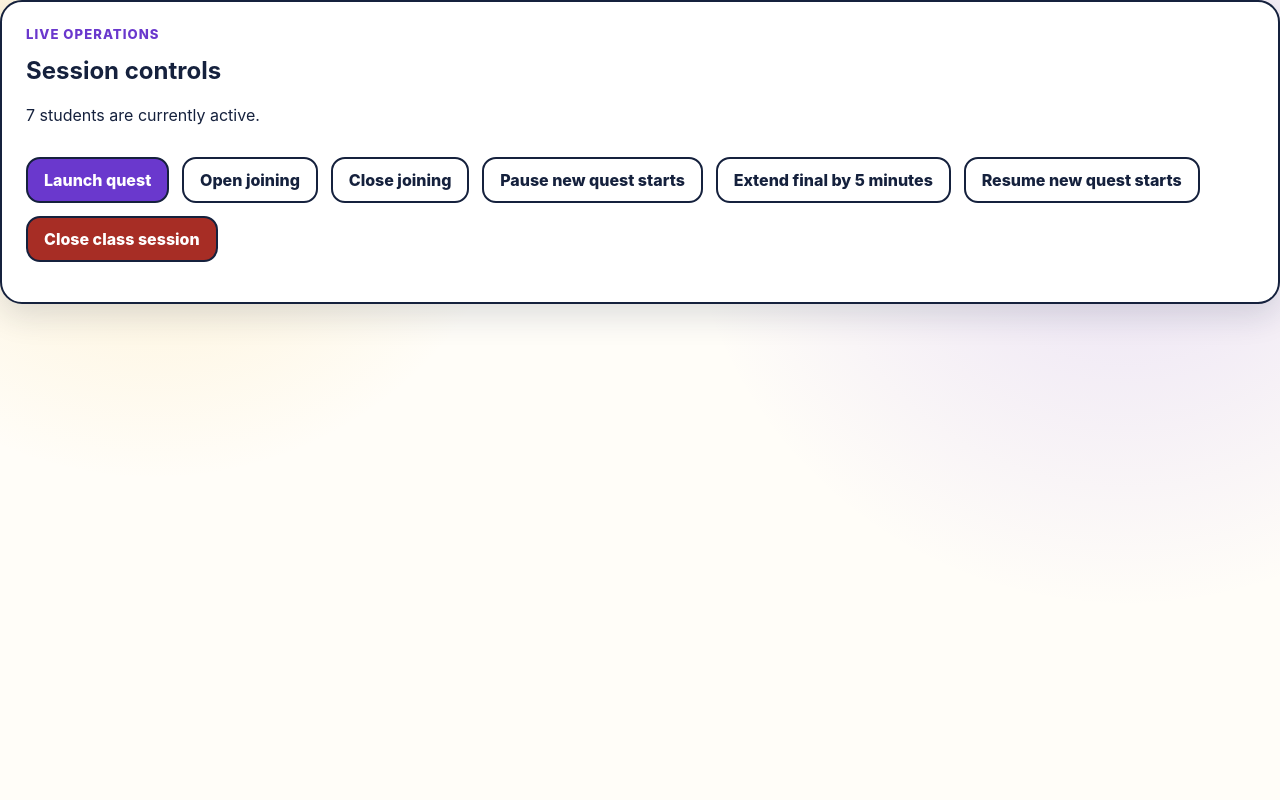
Scenario: requires confirmation before a class-wide change and reports impact
Click the button "Pause new quest starts" at (593, 180), box [482,156,703,203]
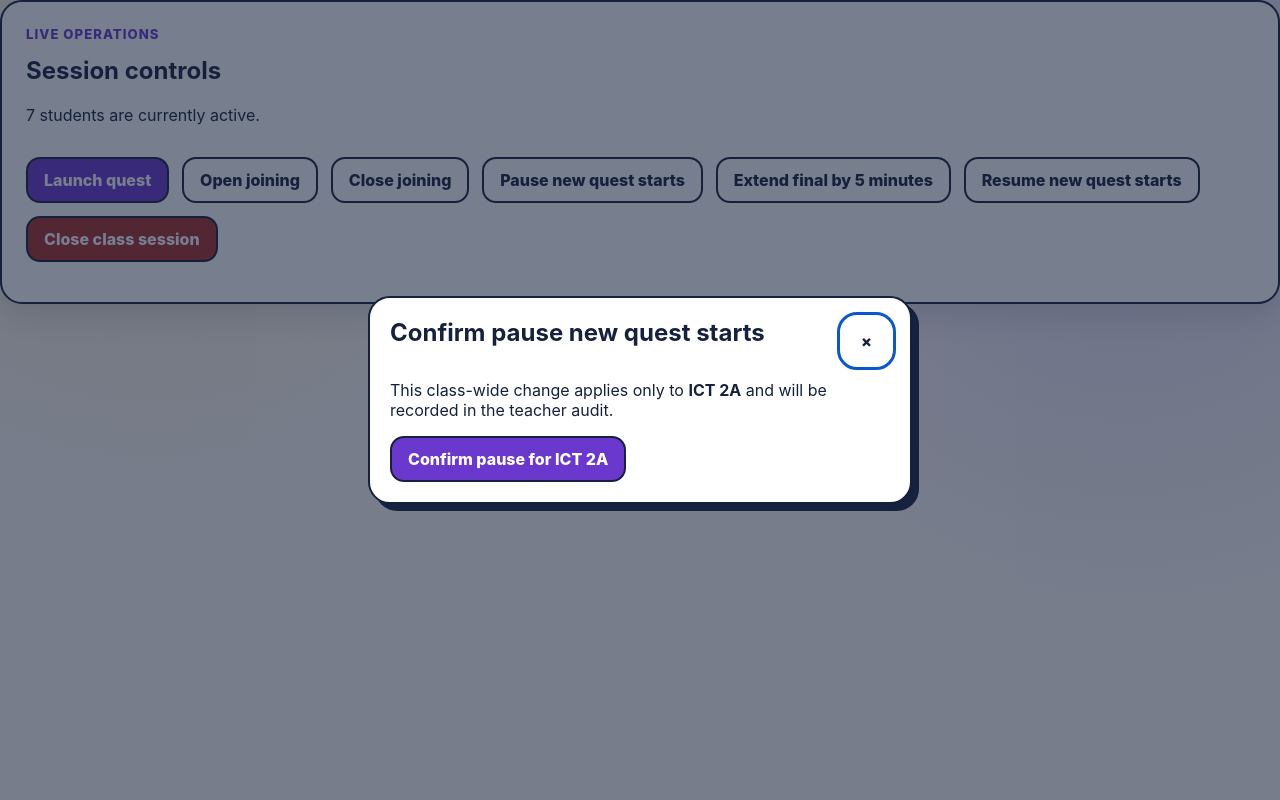
Now the dialog "Confirm pause new quest starts" is shown, box [368,296,912,504]
Click the button "Confirm pause for ICT 2A" at (508, 459), box [390,436,626,482]
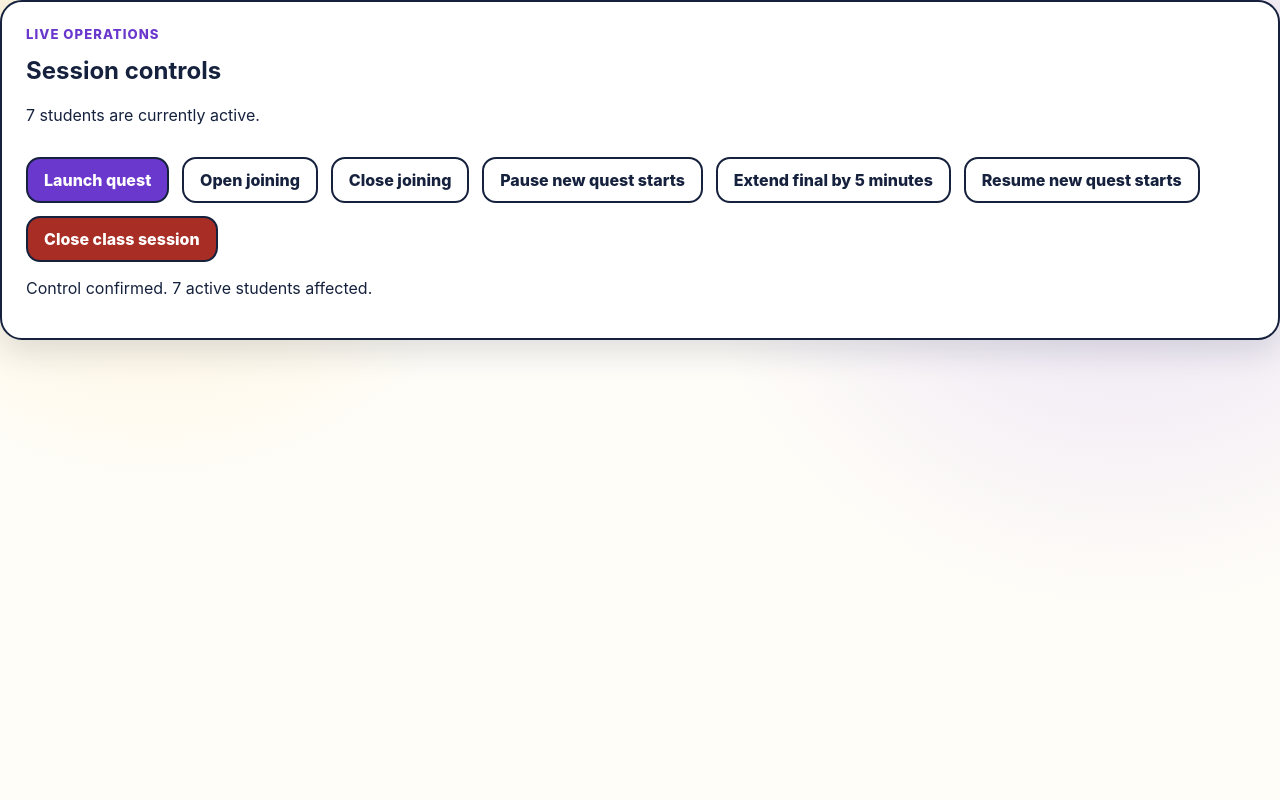
Now the message reads "Control confirmed. 7 active students affected.", box [26,278,372,298]
